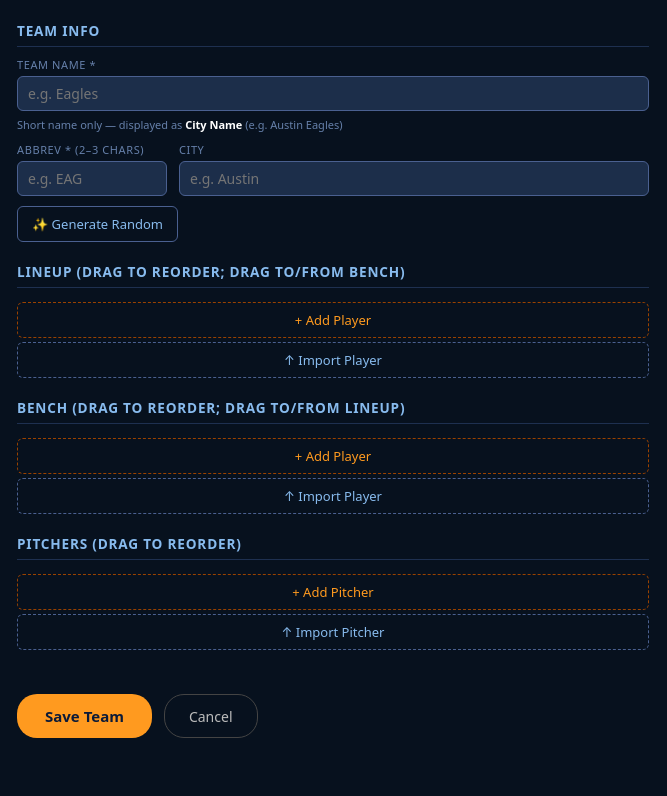
CustomTeamEditor — create mode › shows validation error when save is clicked without required fields
The width and height of the screenshot is (667, 796).
(page scrolled)
Click the button with test id "custom-team-save-button".
click(84, 716)  # box [17,694,152,738]
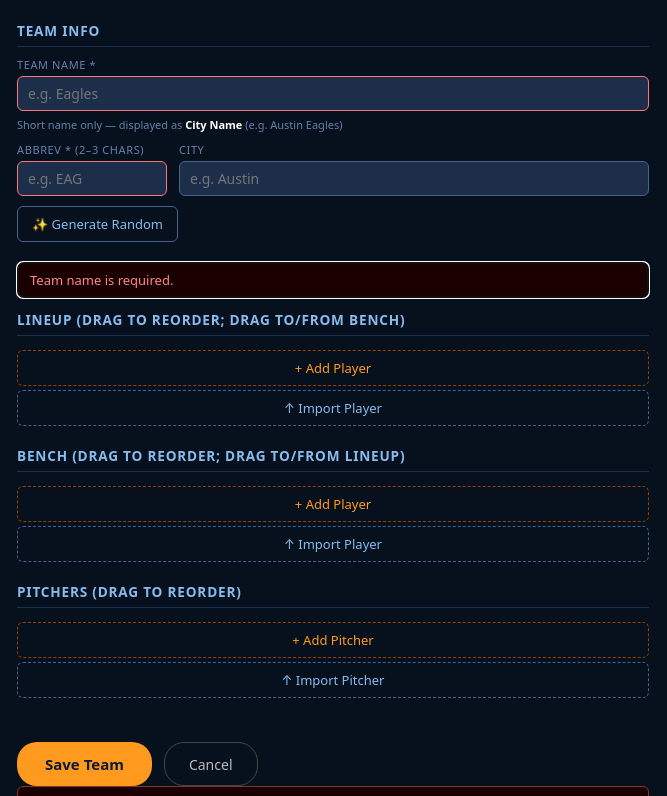
Expected: the message "Team name is required." is shown, [17,262,649,298]
